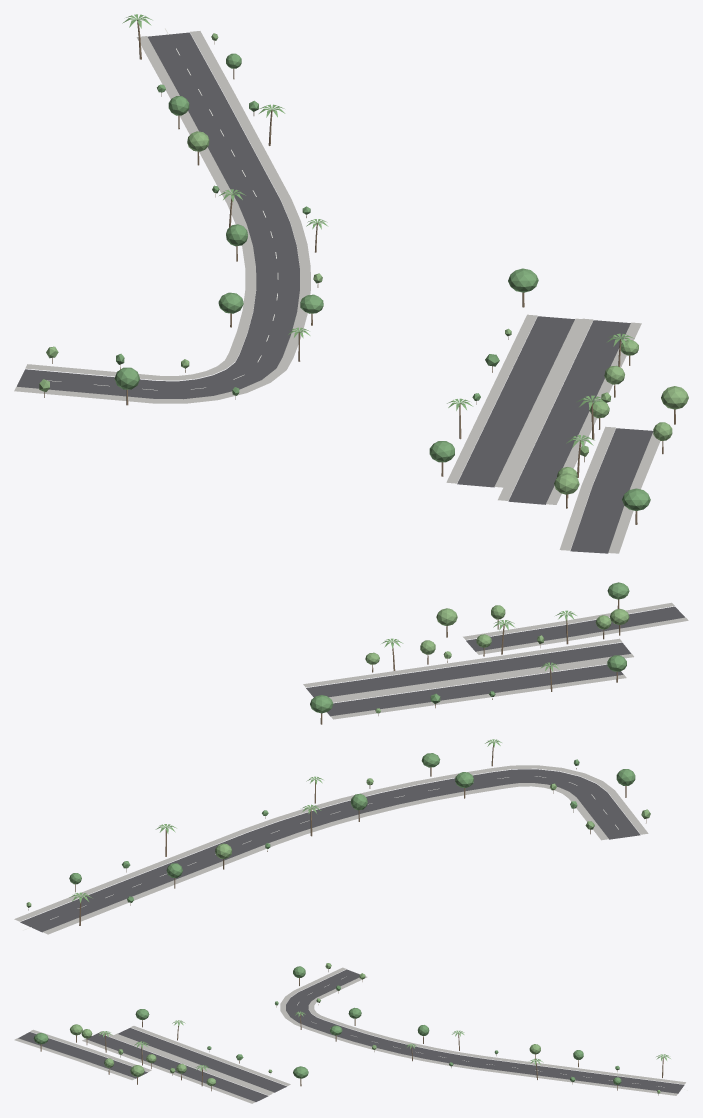
File: tile_-7_4.glb
The picture shows the model from 3 angles, top to bottom: view 1: azimuth 30°, elevation 25°; view 2: azimuth 150°, elevation 25°; view 3: azimuth 270°, elevation 25°; orthographic projection. The views are drawn at different scales.
Visible parts, largest first — view 1: roads_asphalt, roads_sidewalk, nature_foliage_a, nature_foliage_b, nature_palm_leaf, nature_trunk; view 2: roads_asphalt, roads_sidewalk, nature_foliage_a, nature_foliage_b, nature_trunk, nature_palm_leaf; view 3: roads_asphalt, roads_sidewalk, nature_foliage_a, nature_foliage_b, nature_trunk, nature_palm_leaf.
Part boxes in pixels (<box>): roads_asphalt: <box>17,32,653,553</box>; roads_sidewalk: <box>14,31,660,553</box>; nature_foliage_a: <box>114,53,650,510</box>; nature_foliage_b: <box>39,33,688,494</box>; nature_palm_leaf: <box>122,14,634,448</box>; nature_trunk: <box>44,19,675,524</box>; roads_asphalt: <box>20,606,684,932</box>; roads_sidewalk: <box>14,602,688,934</box>; nature_foliage_a: <box>69,582,635,902</box>; nature_foliage_b: <box>26,605,650,907</box>; nature_trunk: <box>28,599,646,925</box>; nature_palm_leaf: <box>69,610,576,903</box>; roads_asphalt: <box>18,969,684,1101</box>; roads_sidewalk: <box>14,967,685,1103</box>; nature_foliage_a: <box>33,966,621,1084</box>; nature_foliage_b: <box>70,963,660,1093</box>; nature_trunk: <box>40,969,663,1095</box>; nature_palm_leaf: <box>98,1011,670,1071</box>.
Bounding box in the file's own units: 114 × 8.36 × 239.
